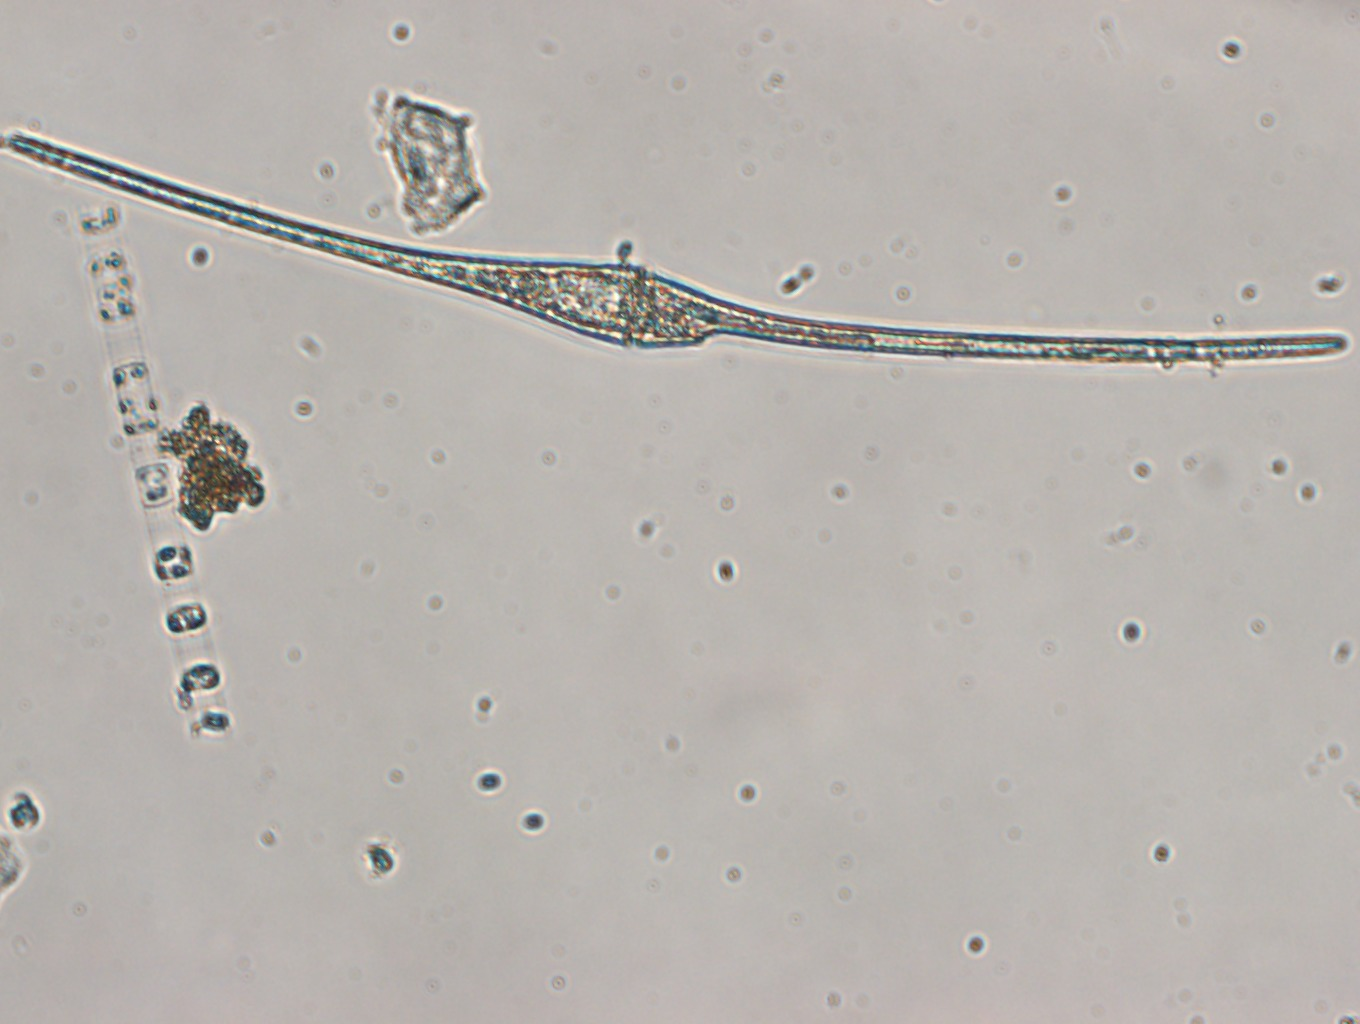ceratium fusus: (1, 128, 1348, 364)
skeletonema: (72, 198, 235, 746)
